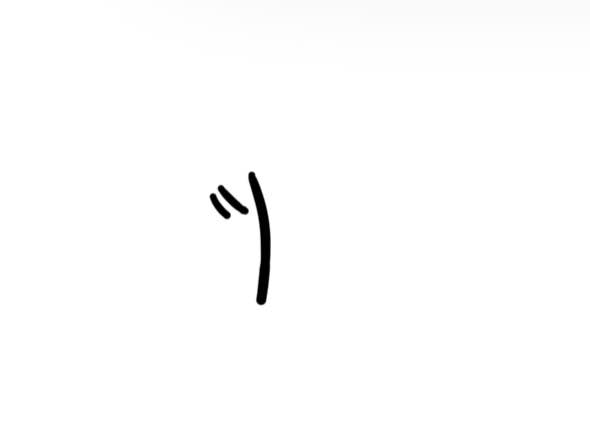tsu: (186, 158, 280, 311)
